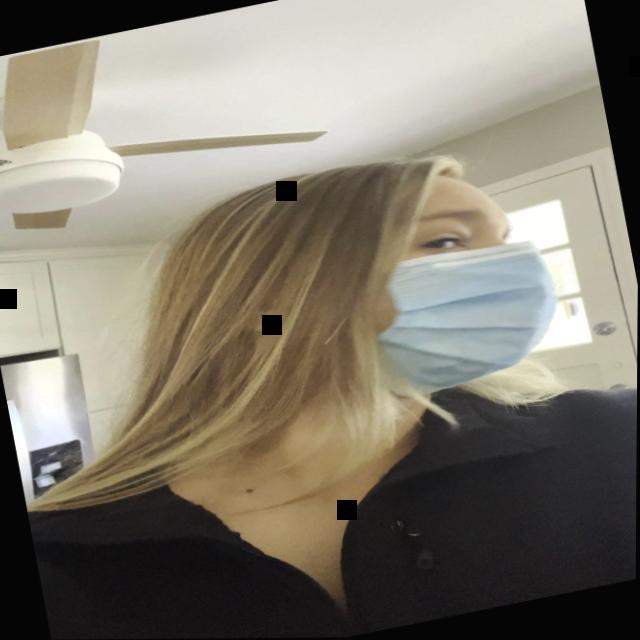Mask: (314, 145, 573, 417)
